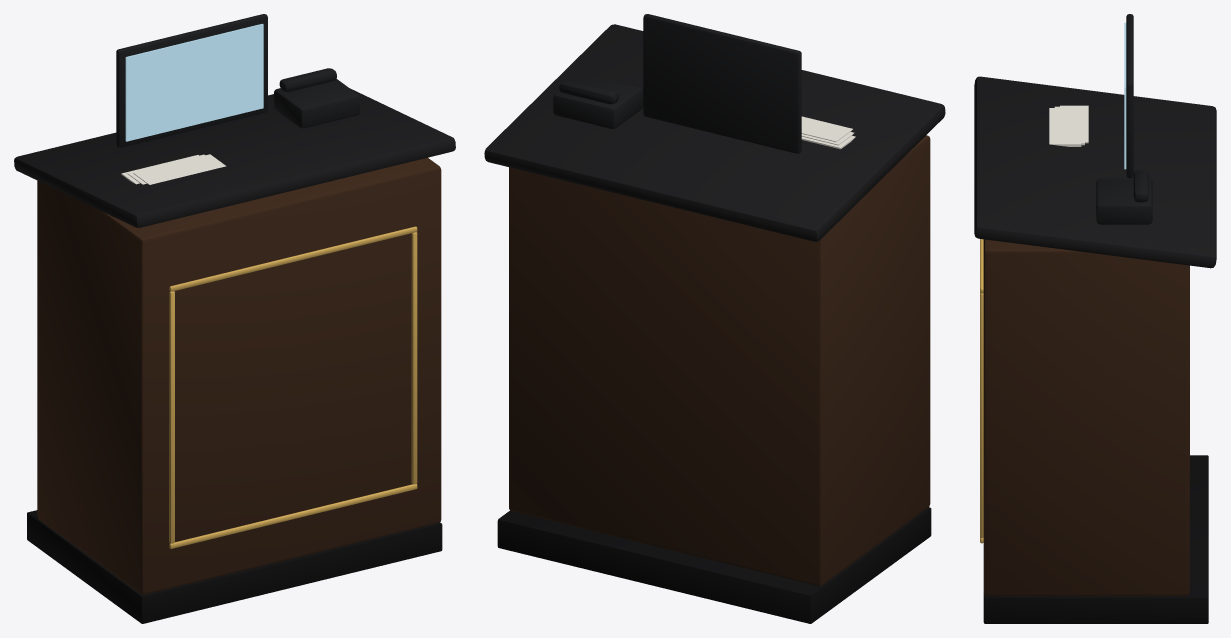
File: tideline_podium.glb
3 renders of one model, left to right at view 1: azimuth 30°, elevation 25°; view 2: azimuth 150°, elevation 25°; view 3: azimuth 270°, elevation 25°, orthographic. The views are drawn at different scales.
Visible parts, largest first — view 1: tideline_podium; view 2: tideline_podium; view 3: tideline_podium.
Boxes of the visible parts, x1,y1,x2,y2 form: tideline_podium: (14, 14, 455, 623); tideline_podium: (484, 14, 945, 623); tideline_podium: (974, 14, 1216, 623).
Bounding box in the file's own units: 0.96 × 1.45 × 0.6459.
